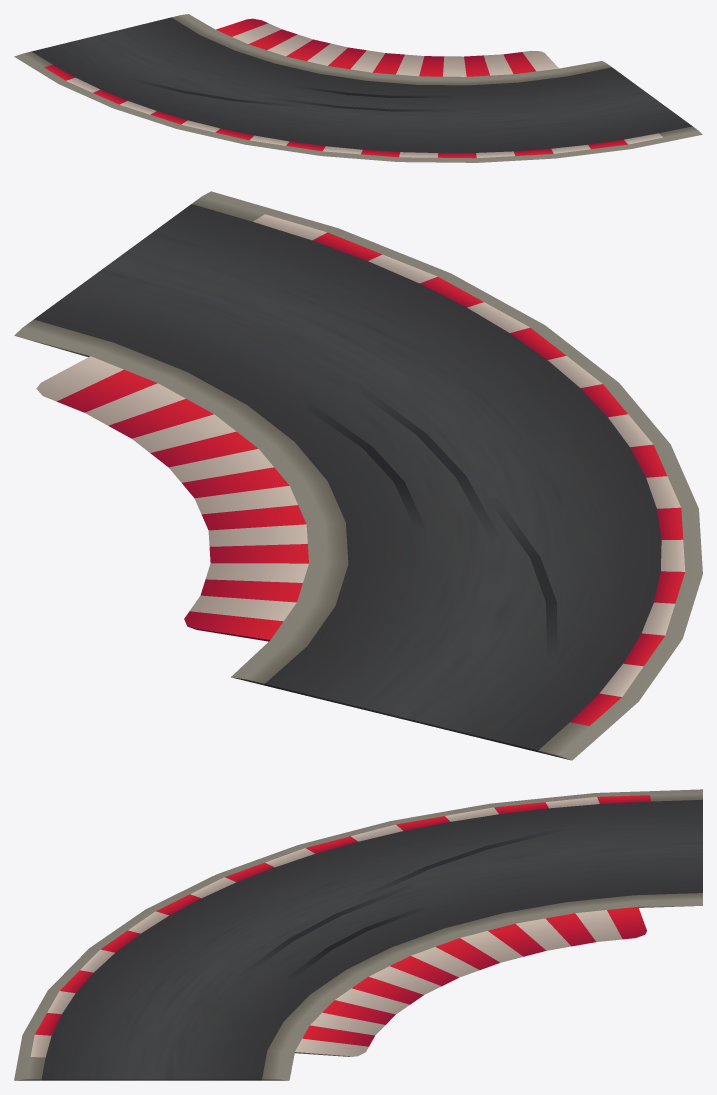
The picture shows the model from 3 angles, top to bottom: view 1: azimuth 30°, elevation 25°; view 2: azimuth 150°, elevation 25°; view 3: azimuth 270°, elevation 25°; orthographic projection. The views are drawn at different scales.
Visible parts, largest first — view 1: Curve_1C, Curve_1C_Skidmarks; view 2: Curve_1C, Curve_1C_Skidmarks; view 3: Curve_1C, Curve_1C_Skidmarks.
Part boxes in pixels (box(x1,y1,x2,y2)): Curve_1C: box(14, 14, 702, 162); Curve_1C_Skidmarks: box(117, 75, 466, 111); Curve_1C: box(14, 191, 702, 760); Curve_1C_Skidmarks: box(302, 380, 557, 665); Curve_1C: box(14, 789, 702, 1080); Curve_1C_Skidmarks: box(237, 825, 577, 980).
Size of the model in its own units: 50 by 0.1085 by 50.
Materials: 1 (1 with a texture image).
